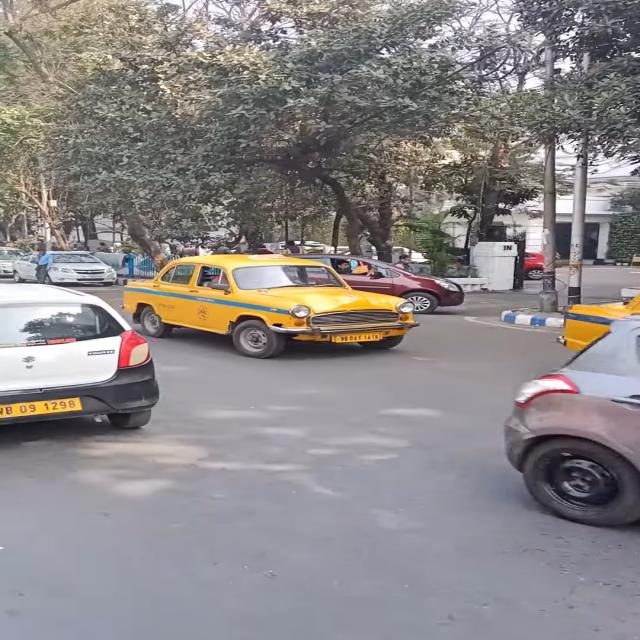Taxi: (131, 251, 416, 362)
